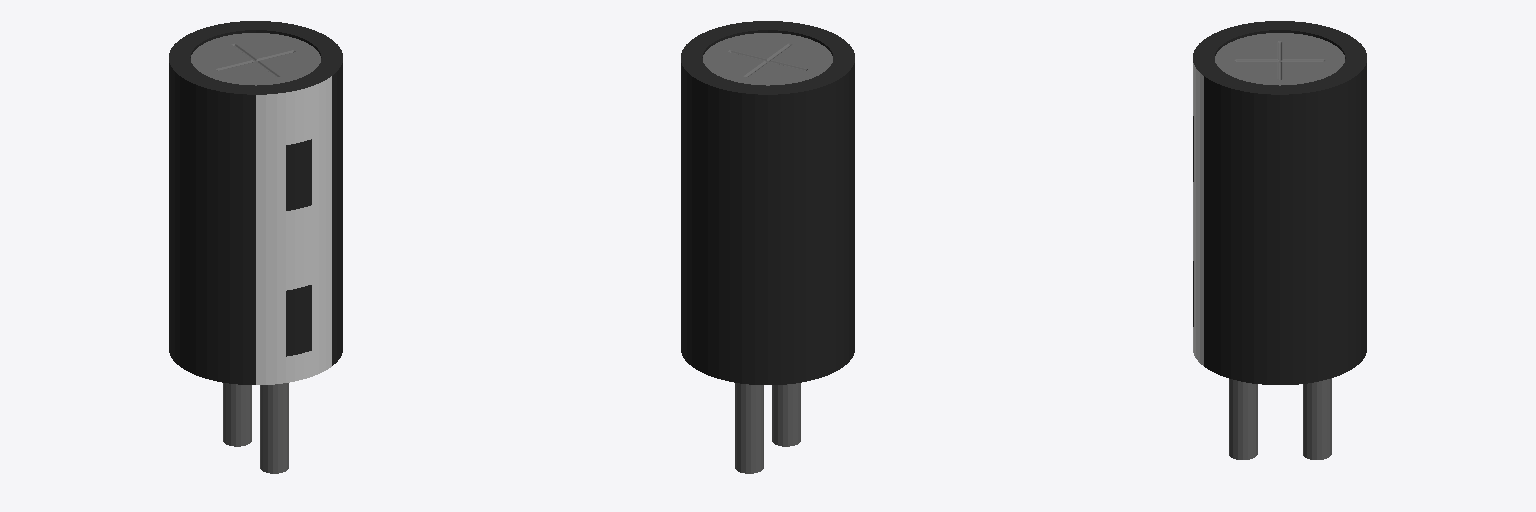
The model's file is Kondensator_6x11.obj.
3 renders of one model, left to right at view 1: azimuth 30°, elevation 25°; view 2: azimuth 150°, elevation 25°; view 3: azimuth 270°, elevation 25°, orthographic.
Visible parts, largest first — view 1: Volumenkörper2; view 2: Volumenkörper2; view 3: Volumenkörper2.
Boxes of the visible parts, <box> form: Volumenkörper2: <box>169,21,342,473</box>; Volumenkörper2: <box>681,21,854,473</box>; Volumenkörper2: <box>1193,21,1366,459</box>.
Size of the model in its own units: 6 by 15 by 5.99.